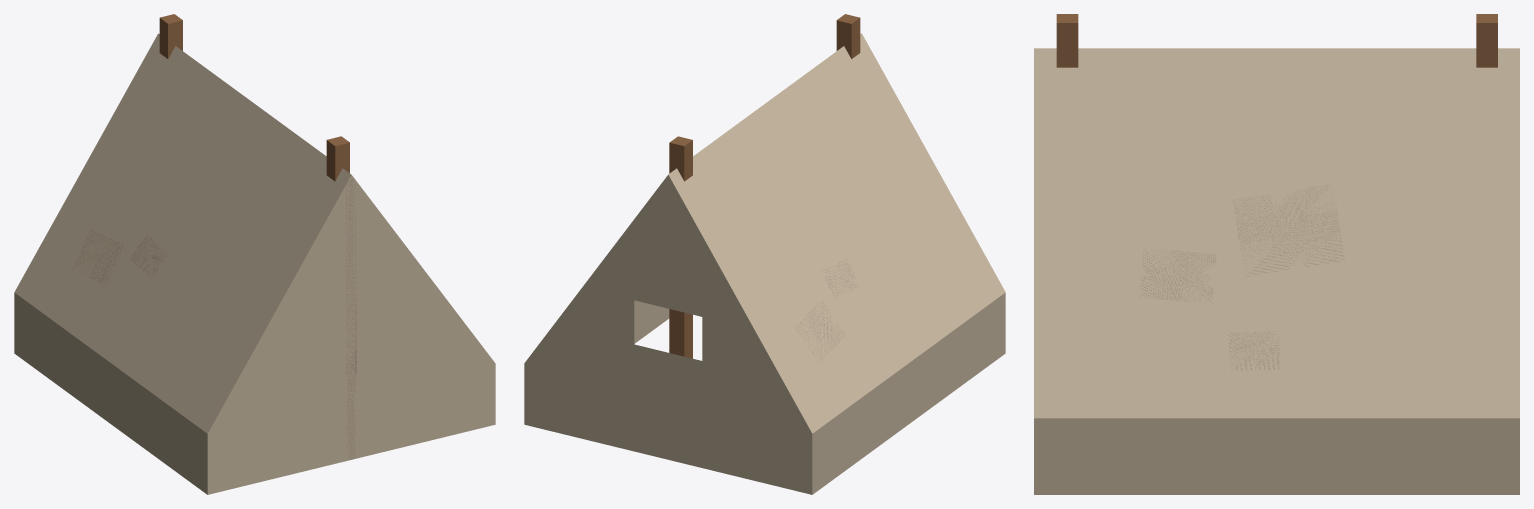
The model's file is yurt_felt_smallClosed.obj.
The picture shows the model from 3 angles, left to right: view 1: azimuth 30°, elevation 25°; view 2: azimuth 150°, elevation 25°; view 3: azimuth 270°, elevation 25°; orthographic projection. The views are drawn at different scales.
Visible parts, largest first — view 1: tent_smallClosed; view 2: tent_smallClosed; view 3: tent_smallClosed.
Boxes of the visible parts, x1,y1,x2,y2 form: tent_smallClosed: (14,14,495,494); tent_smallClosed: (524,14,1005,494); tent_smallClosed: (1034,14,1519,494).
Bounding box in the file's own units: 0.5476 × 0.5611 × 0.6364.
